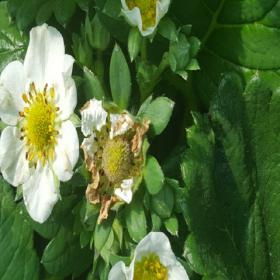Blossom Blight: (92, 115, 142, 200), (17, 81, 61, 172)
